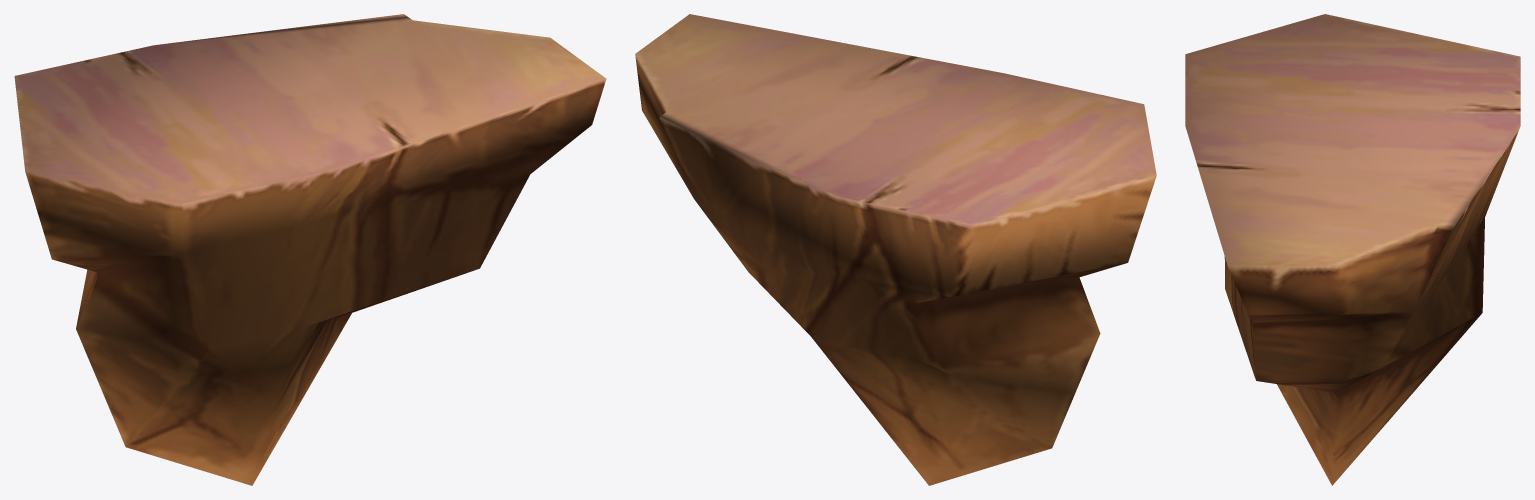
File: cj_hill7.fbx
The picture shows the model from 3 angles, left to right: view 1: azimuth 30°, elevation 25°; view 2: azimuth 150°, elevation 25°; view 3: azimuth 270°, elevation 25°; orthographic projection. The views are drawn at different scales.
Visible parts, largest first — view 1: cj_hill7; view 2: cj_hill7; view 3: cj_hill7.
Boxes of the visible parts, x1=… form: cj_hill7: x1=14, y1=14, x2=606, y2=485; cj_hill7: x1=635, y1=14, x2=1156, y2=485; cj_hill7: x1=1185, y1=14, x2=1520, y2=485.
Bounding box in the file's own units: 878 × 590 × 494.
